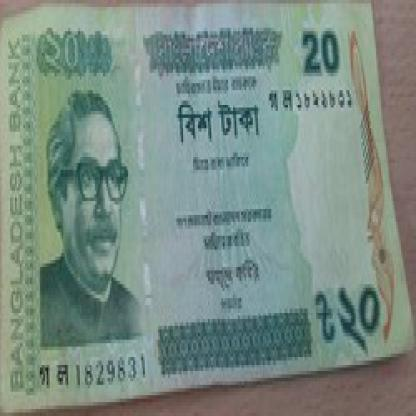Twenty: (30, 27, 120, 80), (177, 101, 266, 149), (315, 288, 381, 346), (298, 28, 344, 73)
